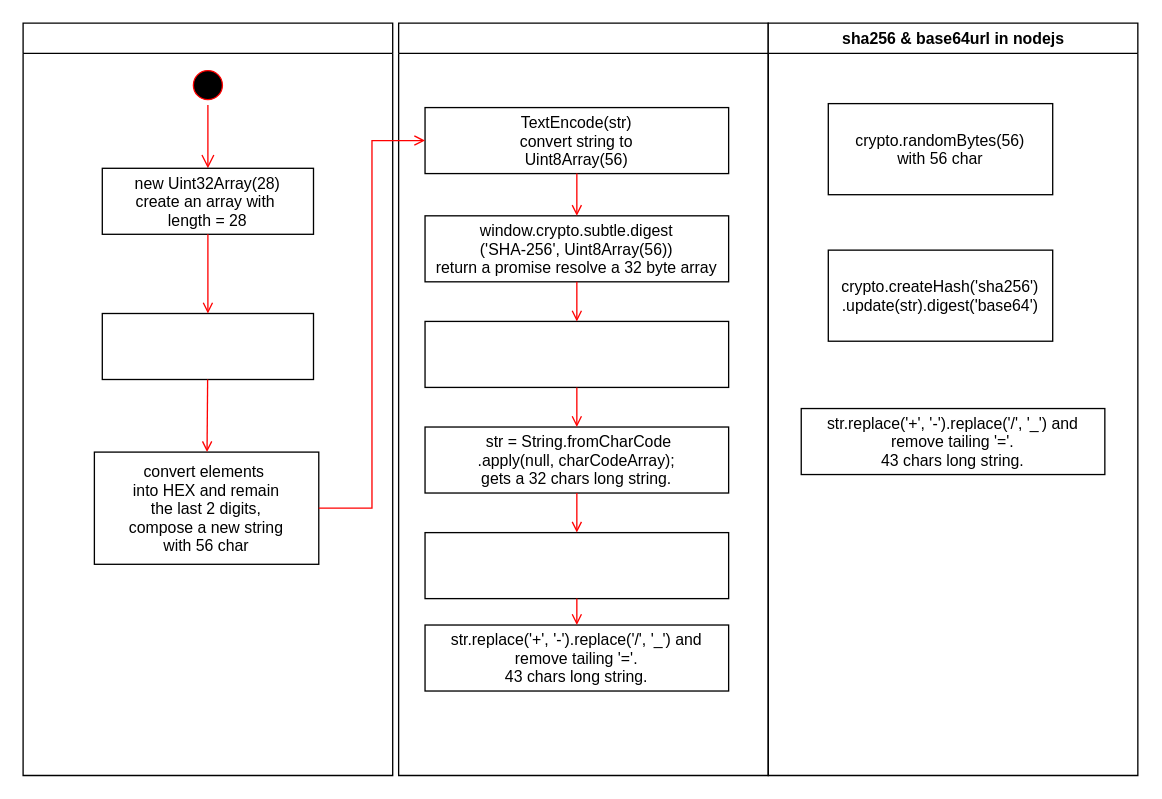
Some shapes in this 1162 by 799 pixel diagram are drawn without their labels. The box of each missing label's shape, as (x1, y1, x2, y2) in pixels:
btoa(str) get a base64 encoded string, 43 chars long.: (424, 531, 729, 599)
charCodeArray= new Uint8Array(digest); turns each char to integer. length = 32: (424, 320, 729, 387)
generateRadomString(): (22, 22, 393, 776)
sha256 & base64url in browser: (397, 22, 768, 776)
window.crypto .getRandomValues (array): (101, 312, 314, 380)
